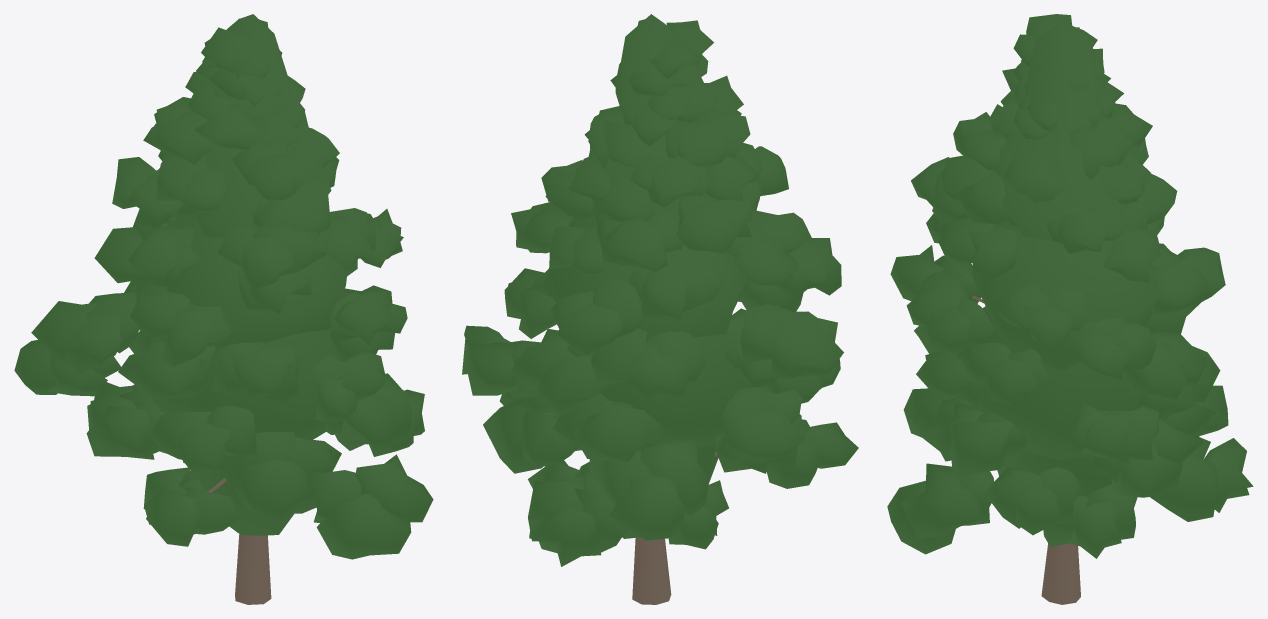
Rendered from Blender_AfghanPine_1.glb.
3 views of the same model, side by side, from view 1: azimuth 30°, elevation 25°; view 2: azimuth 150°, elevation 25°; view 3: azimuth 270°, elevation 25° (orthographic).
Visible parts, largest first — view 1: Blender_AfghanPine_1; view 2: Blender_AfghanPine_1; view 3: Blender_AfghanPine_1.
Part boxes in pixels (x1=…): Blender_AfghanPine_1: x1=14, y1=14, x2=433, y2=604; Blender_AfghanPine_1: x1=462, y1=14, x2=858, y2=604; Blender_AfghanPine_1: x1=887, y1=14, x2=1253, y2=604.
Size of the model in its own units: 10.9 by 16.82 by 9.69.
